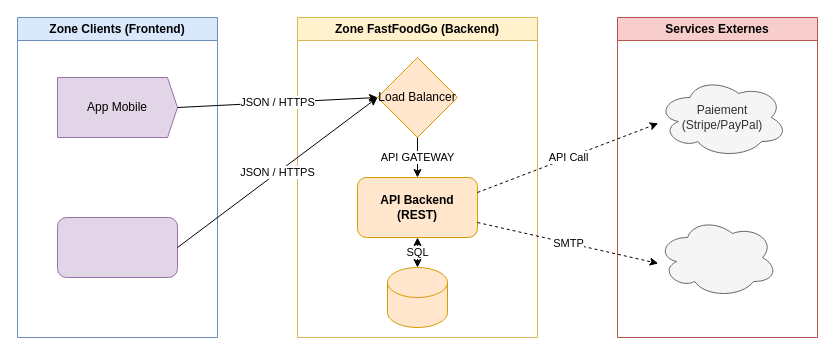
This 835x355 diagram has some shape labels left out. The centre of each missing label's shape, as x and y in pixels:
"Base de Données" belongs at pixel 417 297.
"Serveur Email" belongs at pixel 717 257.
"Site Web" belongs at pixel 117 247.
